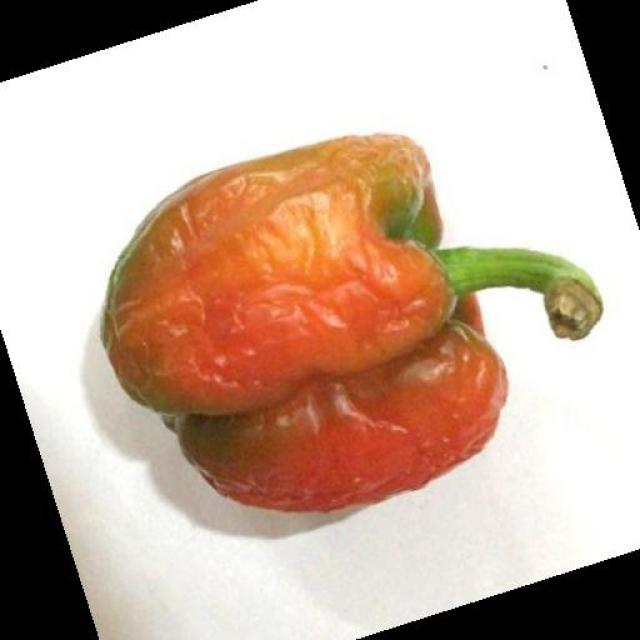Stale_Capsicum: (85, 103, 597, 519)
